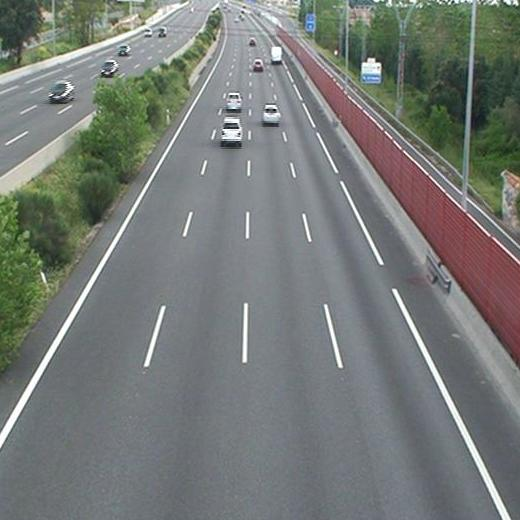car: (221, 118, 243, 141), (263, 105, 279, 124), (227, 94, 242, 109), (252, 60, 263, 71), (248, 38, 257, 47)
van: (270, 46, 282, 63)
